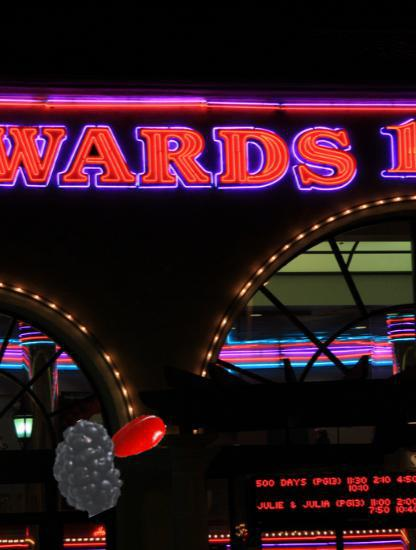Mulberry: (41, 421, 135, 515)
Tomato: (109, 406, 168, 465)
